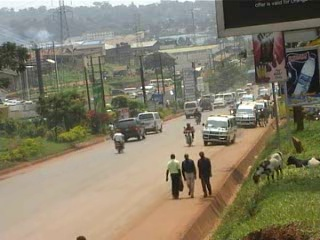Car: (113, 114, 146, 146), (213, 96, 229, 109)
Motorcycle: (111, 127, 127, 156), (182, 120, 195, 148), (191, 106, 203, 127), (227, 104, 237, 118)
